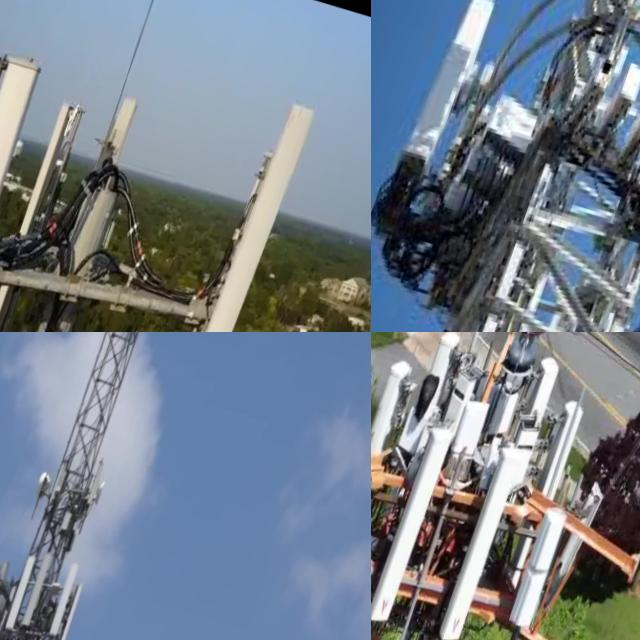GSM Antenna: (149, 89, 327, 332), (394, 0, 513, 187), (0, 92, 89, 332), (433, 441, 528, 640), (371, 420, 457, 633), (74, 94, 144, 246), (504, 504, 575, 640), (540, 484, 609, 621), (438, 376, 499, 487), (531, 395, 589, 510), (511, 348, 567, 455), (371, 346, 420, 468), (1, 550, 42, 640), (17, 548, 58, 637), (44, 559, 83, 640), (51, 581, 87, 640), (423, 332, 462, 386), (83, 456, 111, 510)
Microwave Antenna: (28, 462, 59, 512), (91, 479, 109, 510)
